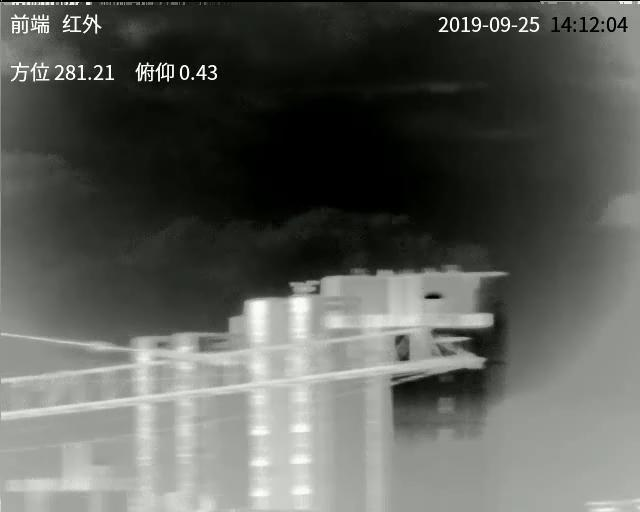uav: (288, 274, 321, 304)
